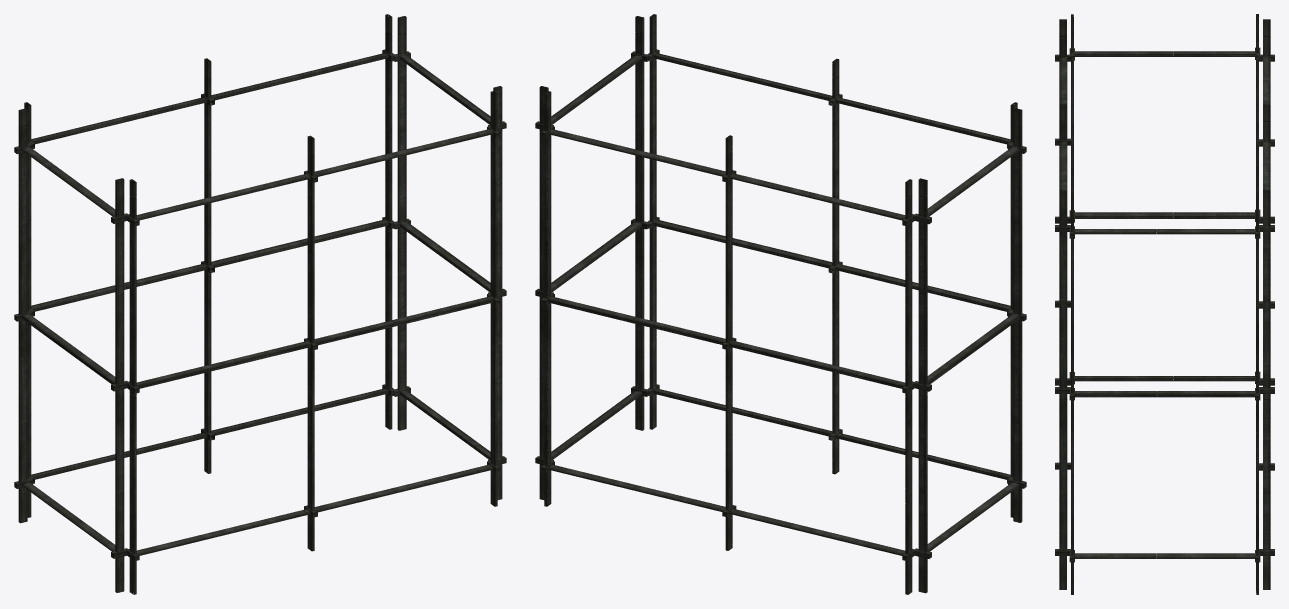
The model's file is tesla_dressing_generic_frame_06.dae.
3 views of the same model, side by side, from view 1: azimuth 30°, elevation 25°; view 2: azimuth 150°, elevation 25°; view 3: azimuth 270°, elevation 25° (orthographic). The views are drawn at different scales.
Parts seen in each view (by area): view 1: polySurface21; view 2: polySurface21; view 3: polySurface21.
Boxes of the visible parts, x1,y1,x2,y2 form: polySurface21: (14, 14, 506, 594); polySurface21: (535, 14, 1026, 594); polySurface21: (1055, 14, 1274, 594).
Bounding box in the file's own units: 4 × 4 × 2.
